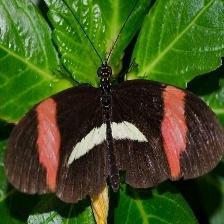butterfly: (6, 66, 224, 203)
